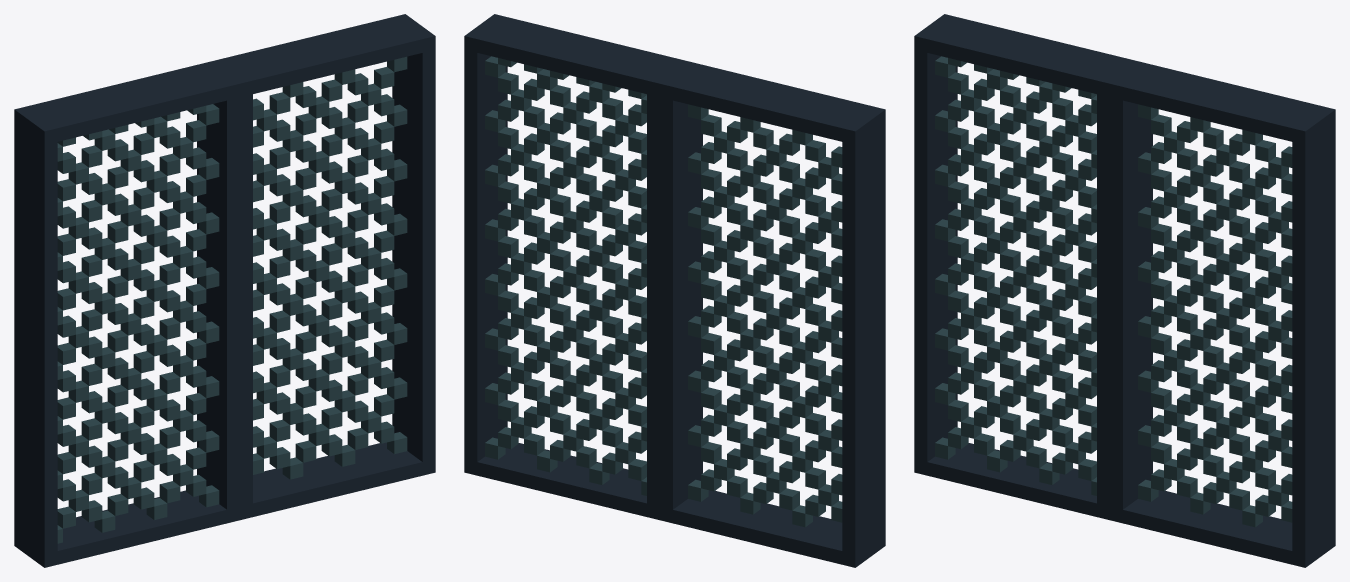
Rendered from wall3_gate_closed.obj.
The picture shows the model from 3 angles, left to right: view 1: azimuth 30°, elevation 25°; view 2: azimuth 150°, elevation 25°; view 3: azimuth 330°, elevation 25°; orthographic projection.
Bounding box in the file's own units: 3 × 3.2 × 0.4.
Materials: 1 (1 with a texture image).
